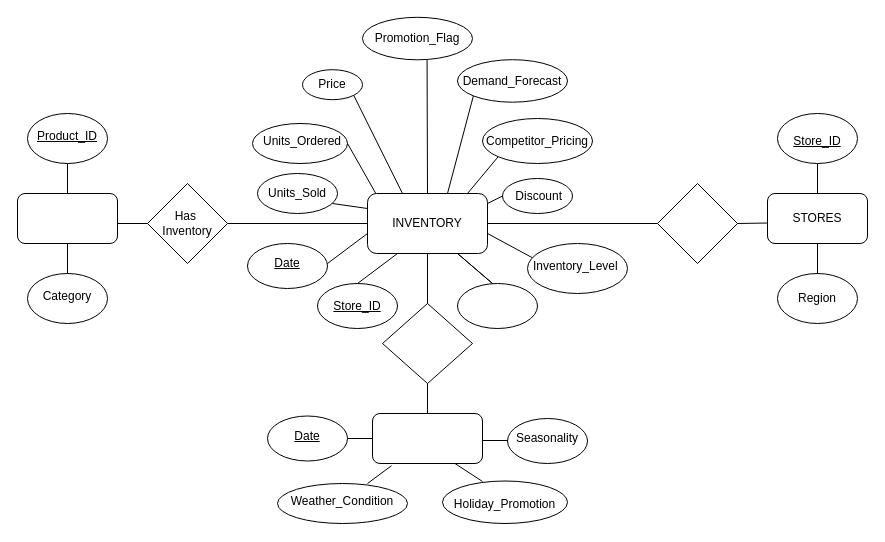
Image size: 885x542. Some labels were removed from this diagram. Here are the shapes that lost their labels. From the top down, the centre of each, then its label:
point (67, 218): PRODUCT
point (697, 223): S tores as
point (497, 305): Product_ID
point (427, 343): Recorded As
point (427, 438): DATES
